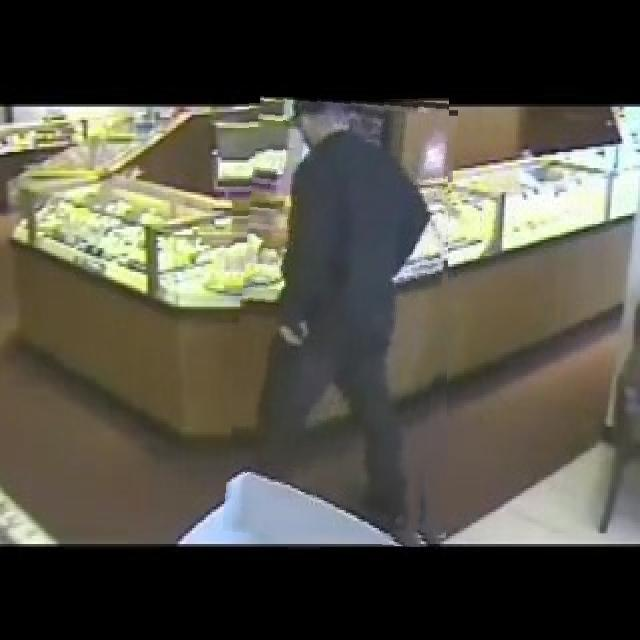normal: (232, 97, 449, 544)
